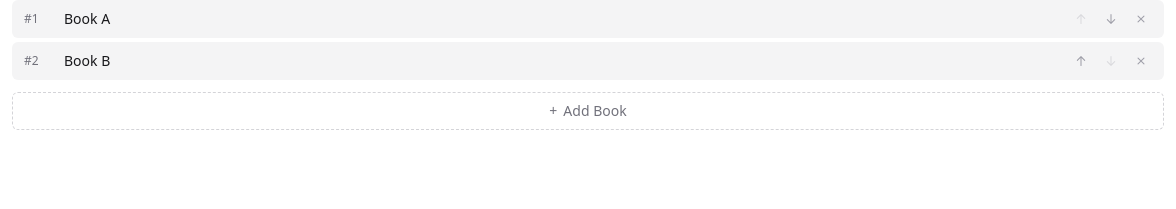
Test case: VolumeList › the picker offers only books not yet in a series
This screenshot has width=1176, height=209.
Click the button "+ Add Book".
click(588, 111)  # box [12, 92, 1164, 130]
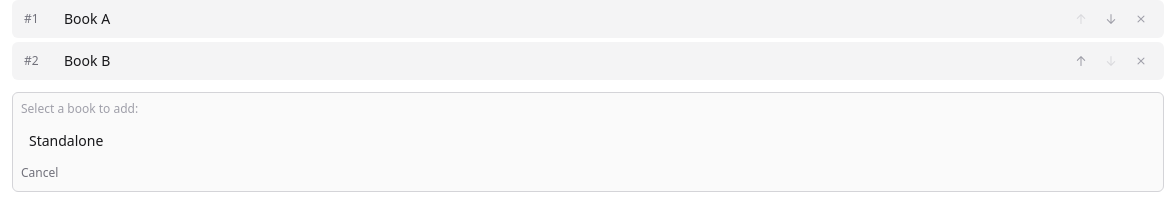
Expected: the text "Standalone" is shown, [29, 131, 103, 150]
Click the button "Standalone".
click(66, 140)  # box [21, 125, 1155, 157]
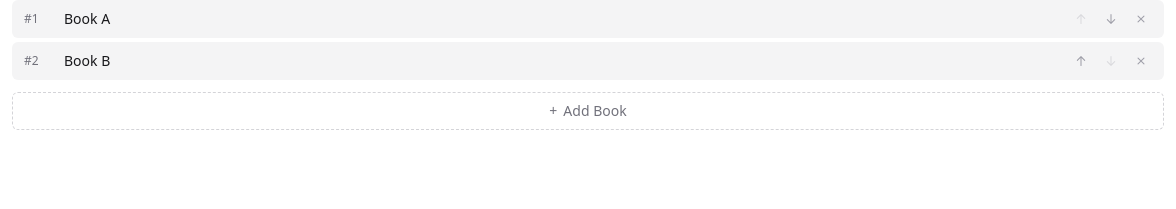
Expected: the text "Select a book to add:" is gone
